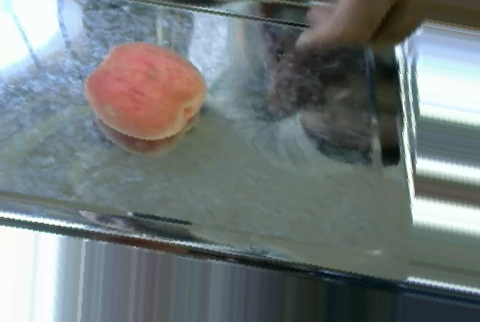Peach: (89, 41, 206, 141)
